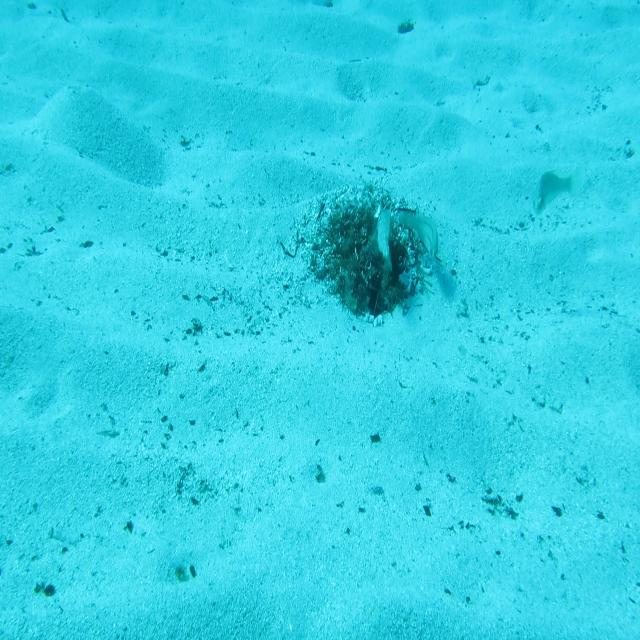ROLL: (370, 205, 399, 278)
female: (394, 212, 440, 265)
nest: (315, 188, 442, 323)
other_fish: (530, 160, 585, 221)
